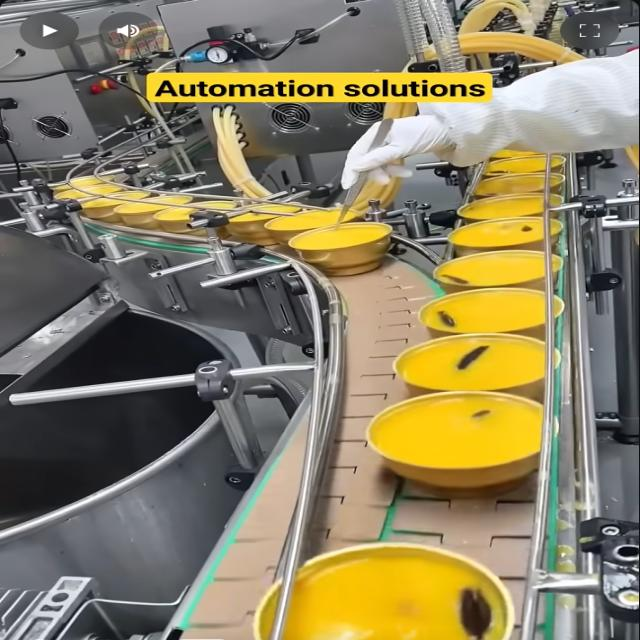cup: (213, 536, 545, 640), (359, 388, 572, 488), (383, 332, 572, 396), (276, 222, 410, 284), (414, 286, 573, 338), (424, 251, 574, 292), (220, 196, 310, 252), (148, 194, 251, 242), (440, 217, 576, 253), (259, 208, 377, 248), (105, 188, 195, 239), (74, 187, 159, 229), (452, 195, 576, 222), (462, 172, 569, 198), (478, 153, 571, 179), (49, 182, 129, 211)
